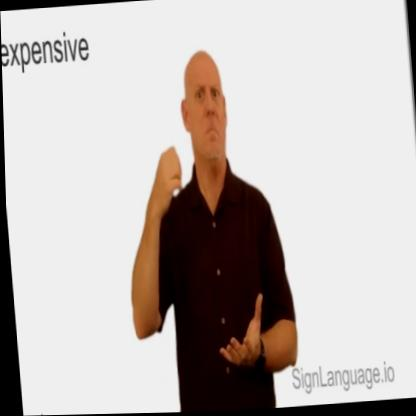Expensive: (106, 38, 301, 414)
